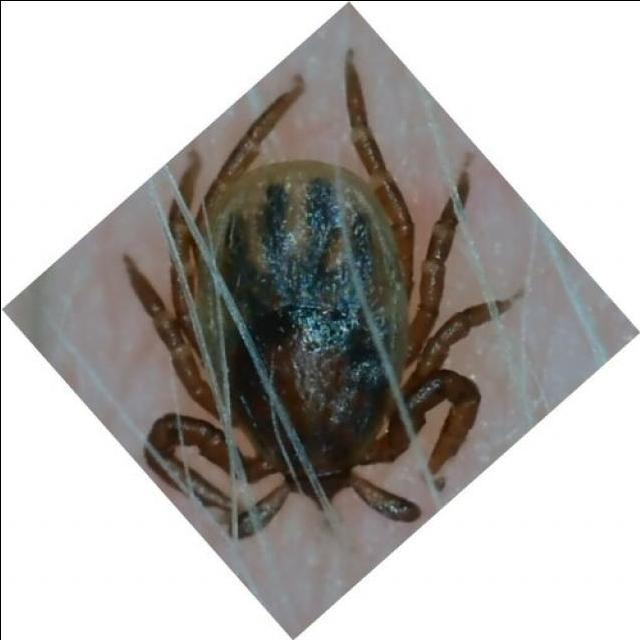Ixodes Ricinus-F: (123, 48, 490, 538)
